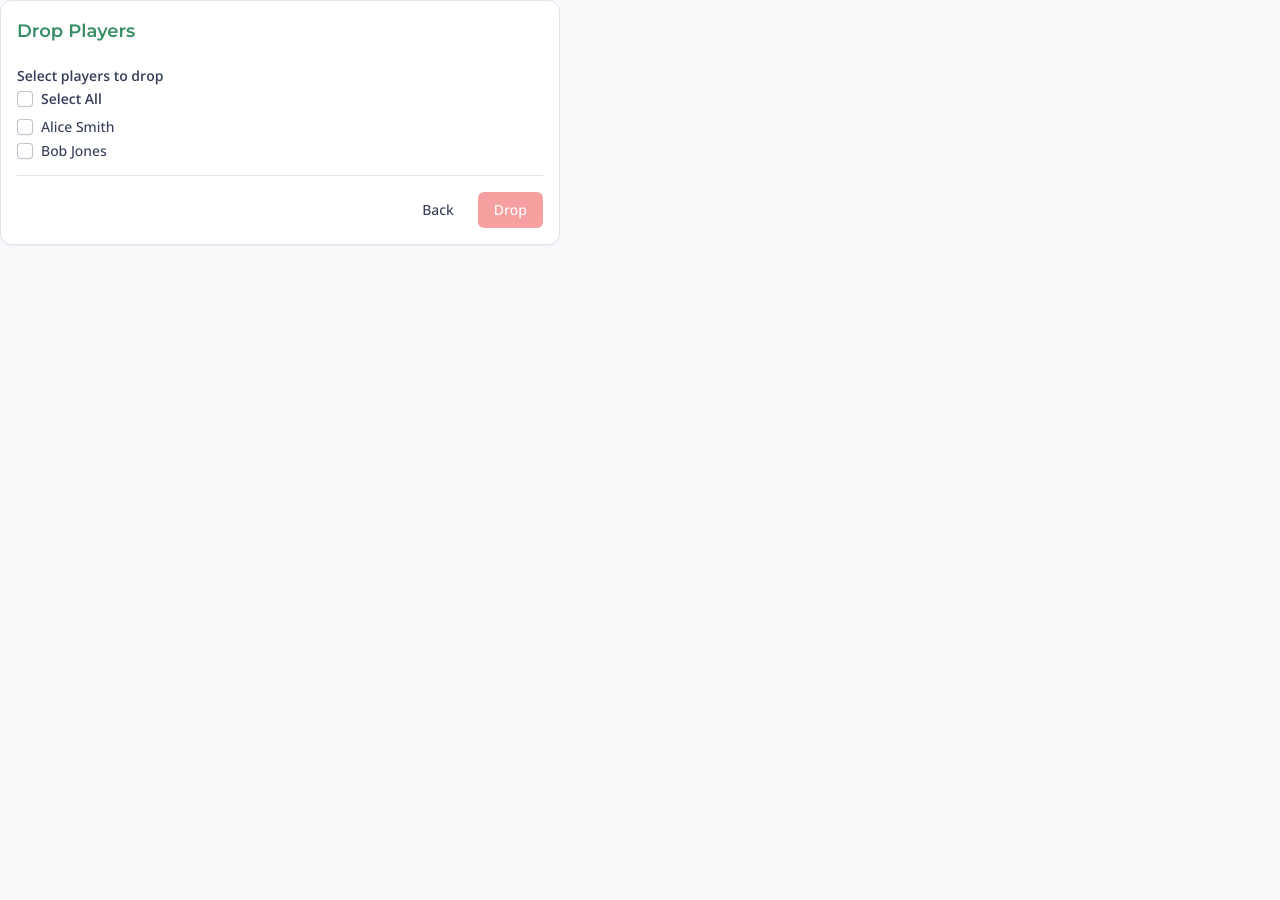
confirmation dialog shows refund message before signup_end
Click the checkbox named "Alice Smith" next to "Alice Smith": (25, 127) [17,119,33,135]
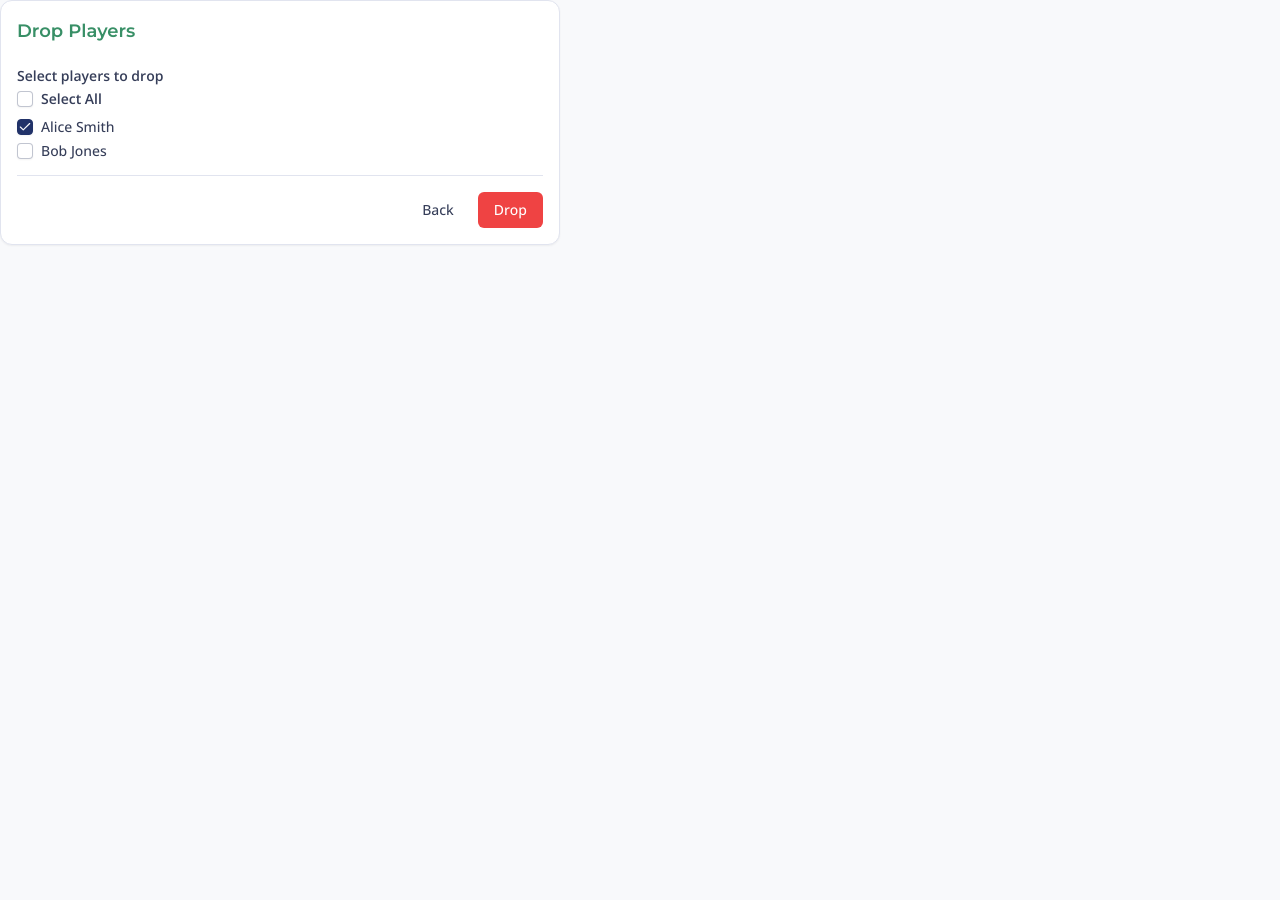
Click the button "Drop": (510, 210) [478,192,543,228]
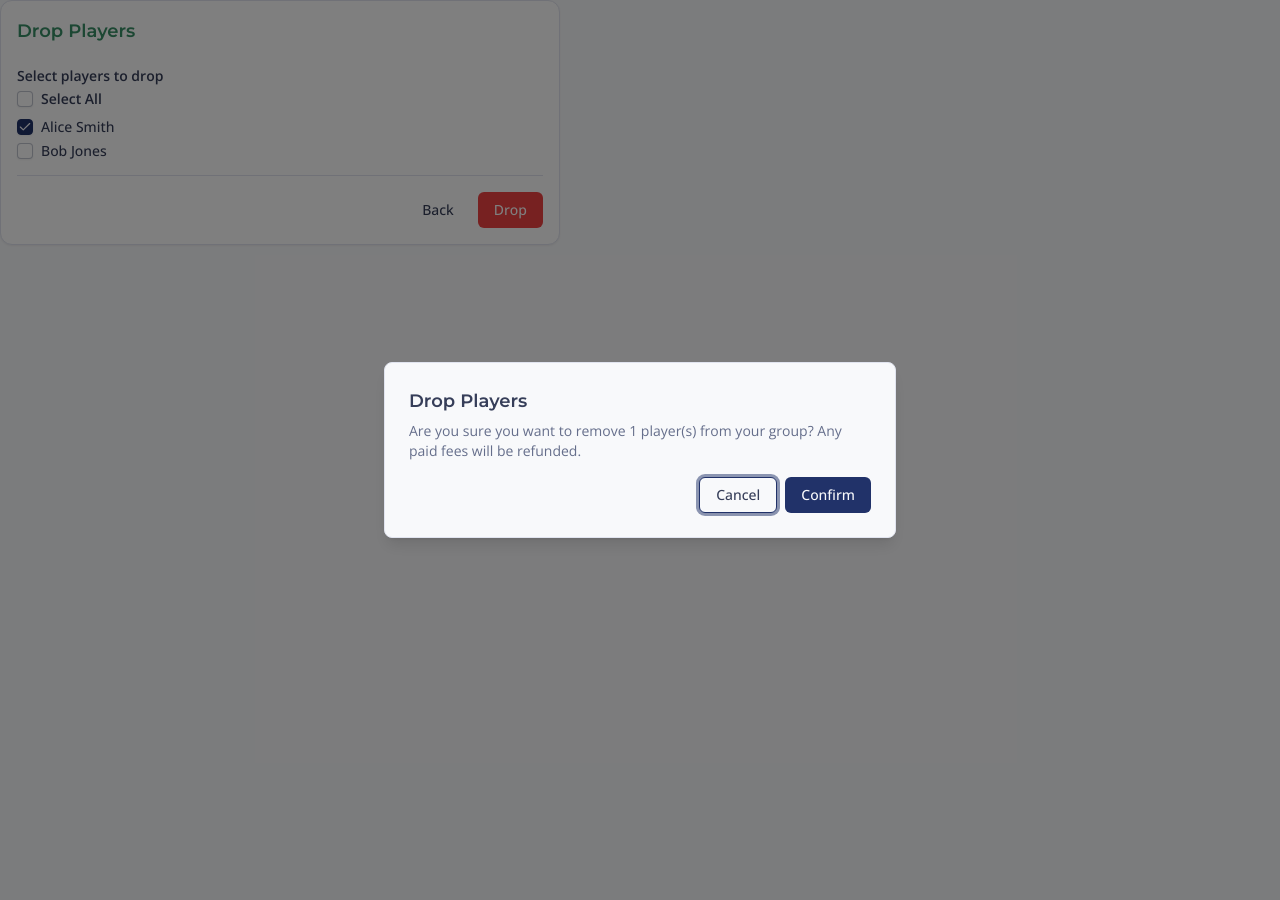
Result: the text "Any paid fees will be refunded" is shown at [409,421,842,460]
